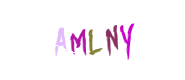A: (41, 0, 121, 80)
L: (60, 0, 140, 80)
M: (52, 0, 132, 80)
N: (61, 0, 141, 80)
Y: (64, 0, 144, 80)
